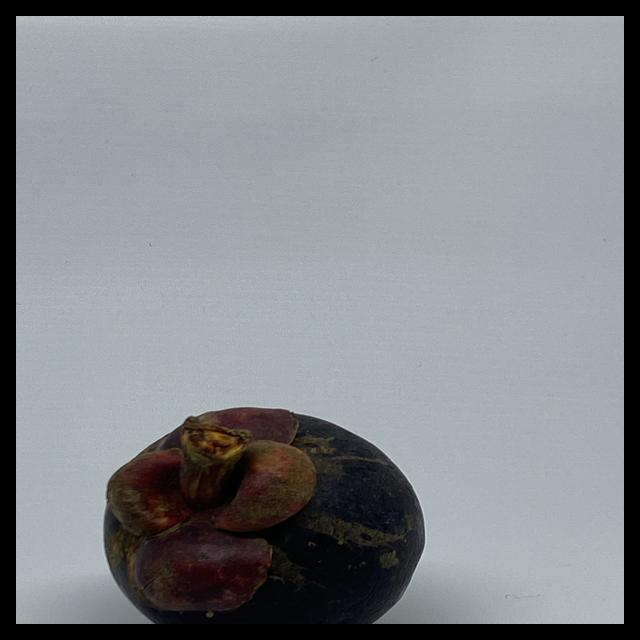mangosteen: (95, 404, 432, 624)
